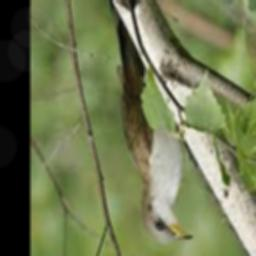Cuckoo: (109, 0, 192, 244)
